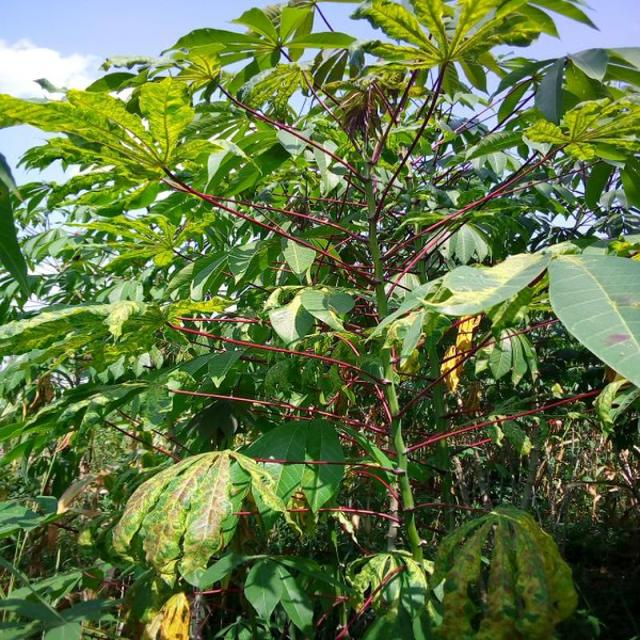cassava leaf: (110, 447, 288, 590), (428, 502, 578, 638), (546, 244, 640, 390)
